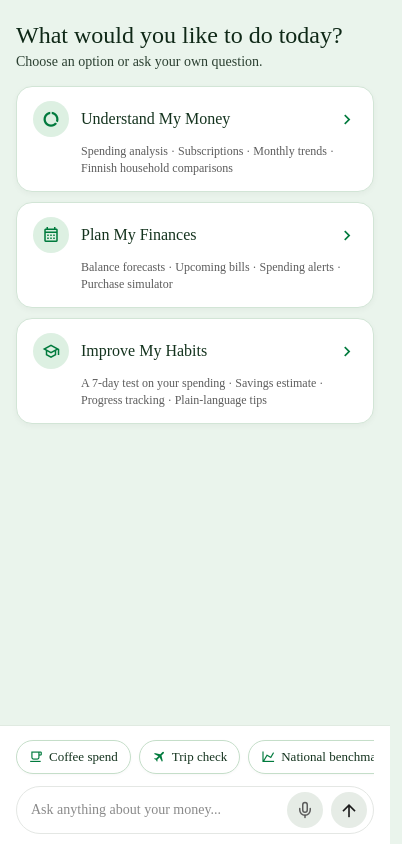
Test: chat › sends a message and renders assistant text with a transaction_list widget
Type "show my latest transactions" into the field named "Message".
click(155, 810); type("show my latest transactions")  # box left=31, top=790, right=279, bottom=830
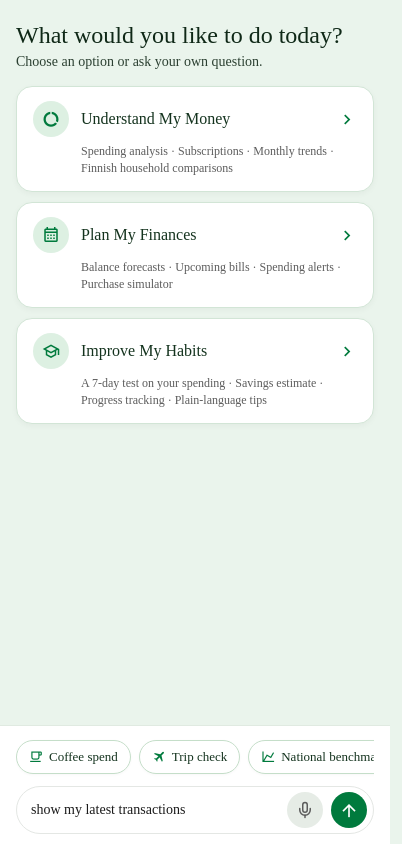
Click the button named "Send".
click(349, 810)  # box left=331, top=792, right=367, bottom=828
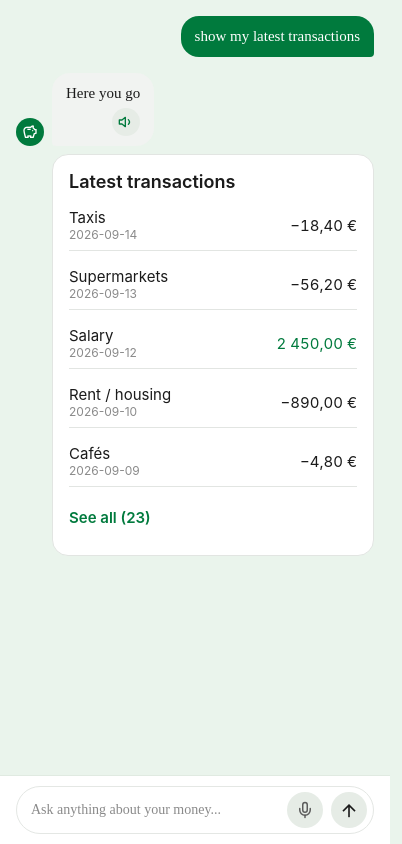
Expected: the text "Here you go" is shown, left=66, top=83, right=140, bottom=104
Expected: the text "show my latest transactions" is shown, left=195, top=26, right=360, bottom=47
Expected: the heading "Latest transactions" is shown, left=69, top=171, right=235, bottom=192
